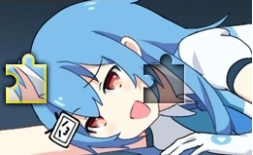gap: (143, 54, 184, 103)
